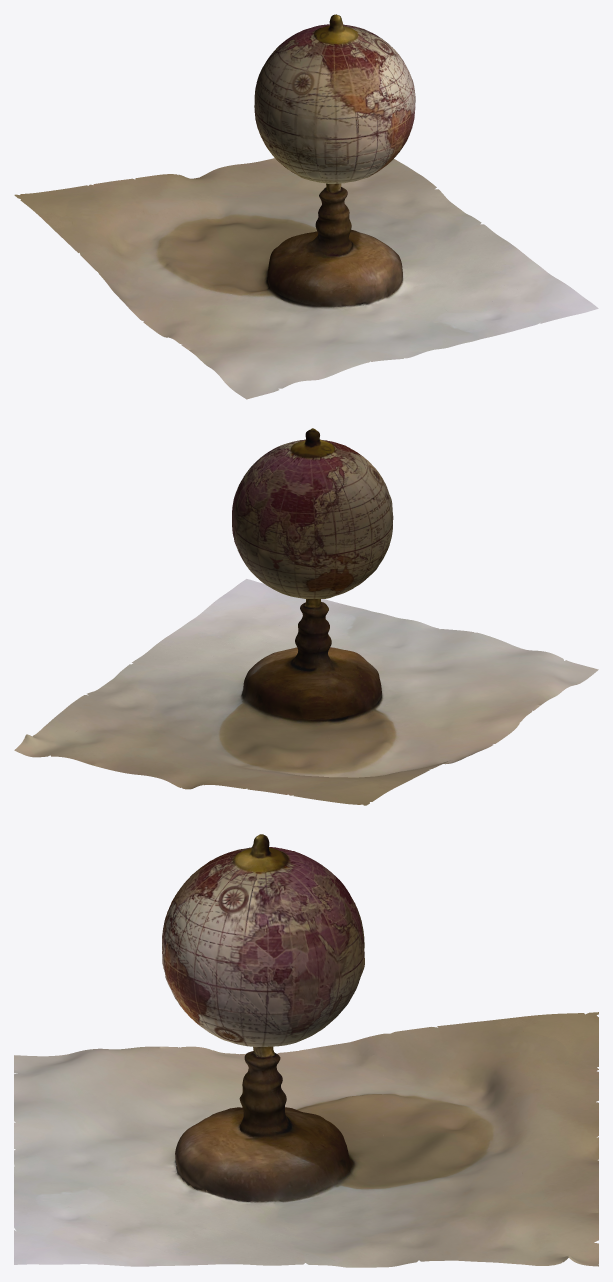
The model's file is globe.glb.
3 renders of one model, top to bottom at view 1: azimuth 30°, elevation 25°; view 2: azimuth 150°, elevation 25°; view 3: azimuth 270°, elevation 25°, orthographic. The views are drawn at different scales.
Visible parts, largest first — view 1: Object_4; view 2: Object_4; view 3: Object_4.
Boxes of the visible parts, bbox=[...] form: Object_4: bbox=[14, 14, 598, 399]; Object_4: bbox=[14, 428, 598, 805]; Object_4: bbox=[14, 834, 598, 1267].
Bounding box in the file's own units: 0.2611 × 0.1906 × 0.2989.
1 material, 1 textured.
